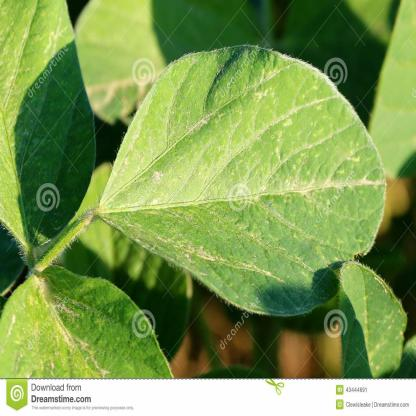soybean leaf: (98, 43, 388, 319)
